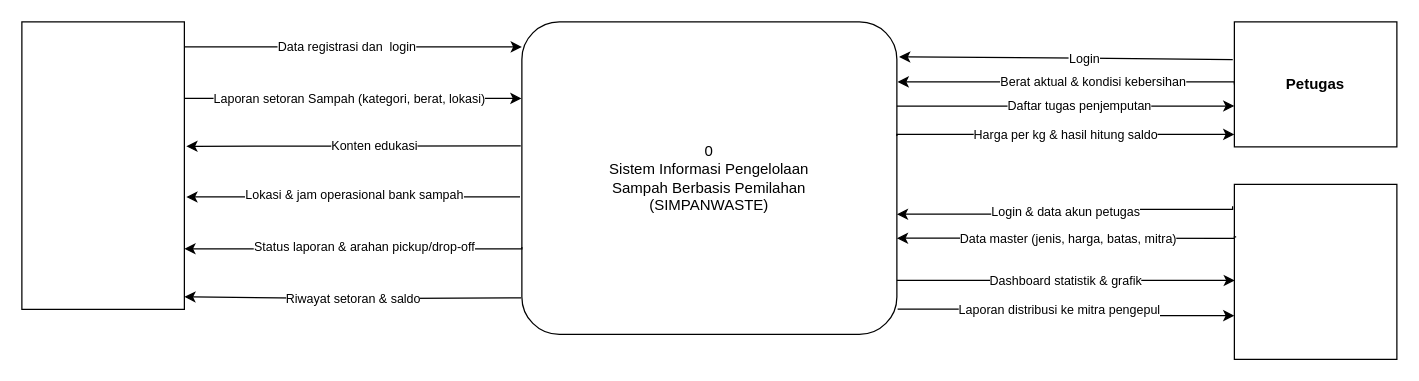
This 1419x381 diagram has some shape labels left out. Here are the shapes that lost their labels. From the top down, the box of each, then its label:
(21, 21, 184, 309): Warga (Nasabah)
(1233, 183, 1397, 359): Admin
